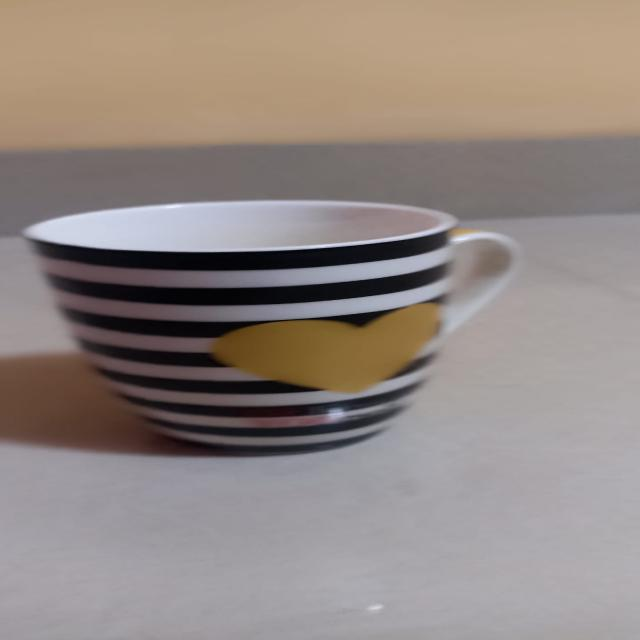cup: (10, 182, 555, 465)
